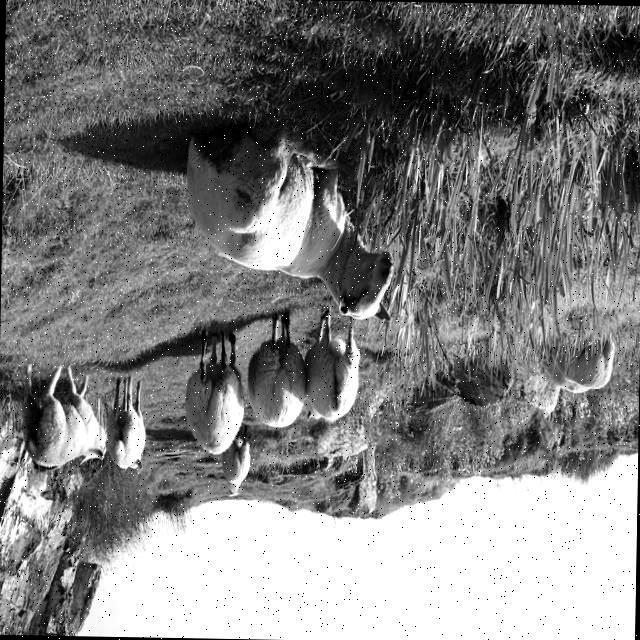sheep: (187, 124, 393, 319), (23, 365, 106, 468), (183, 335, 244, 455), (247, 312, 305, 428), (308, 311, 359, 423), (106, 381, 145, 469), (549, 342, 614, 389), (222, 426, 249, 497)
